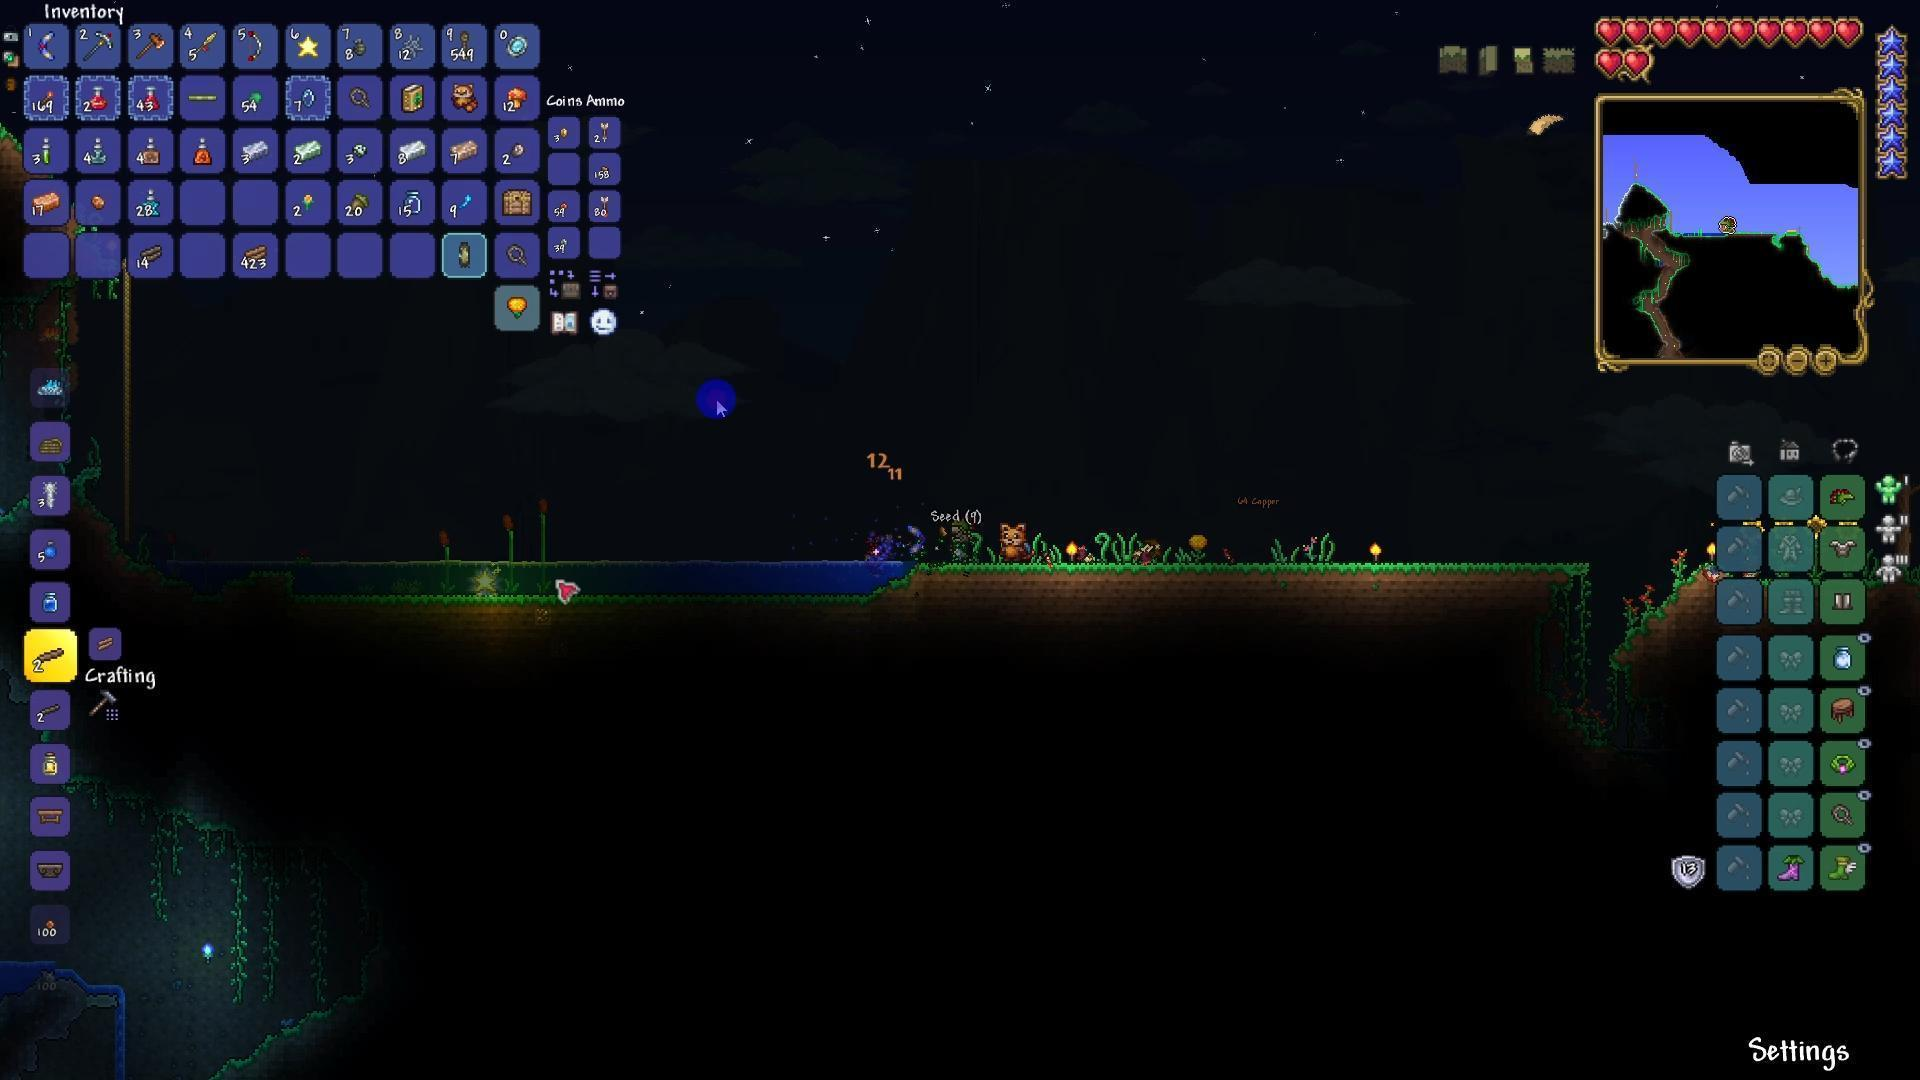axe: (137, 33, 166, 58)
breastplate: (1828, 537, 1859, 562)
cobwebI: (397, 34, 426, 59)
legs: (1829, 591, 1854, 615)
lens: (299, 86, 319, 111)
workbench: (37, 806, 62, 825)
